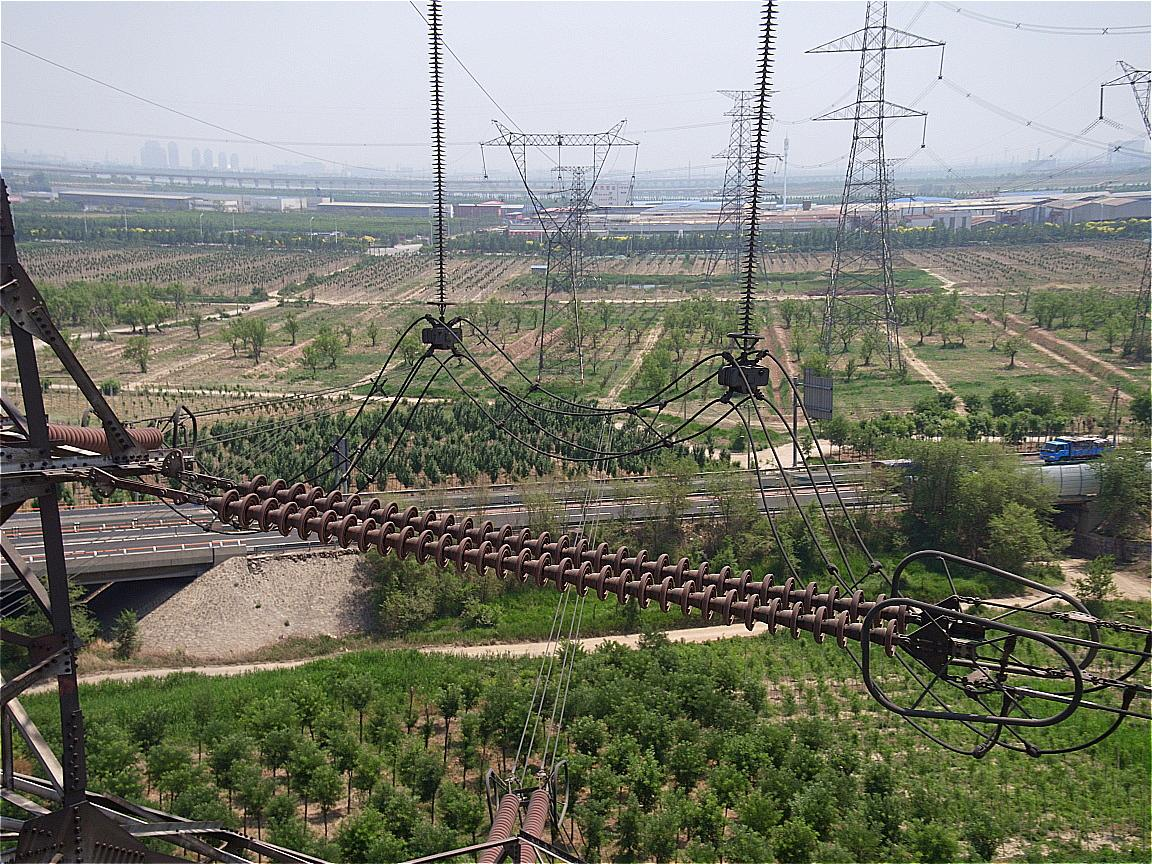insultor1: (223, 472, 910, 651)
